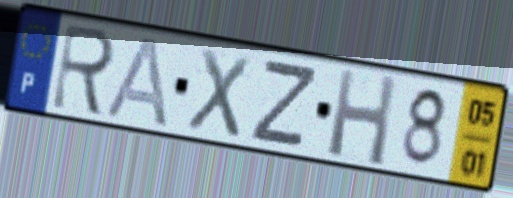8: (397, 85, 447, 170)
A: (102, 33, 171, 131)
H: (324, 66, 400, 171)
R: (48, 20, 120, 121)
X: (183, 44, 254, 142)
Z: (246, 59, 322, 152)
